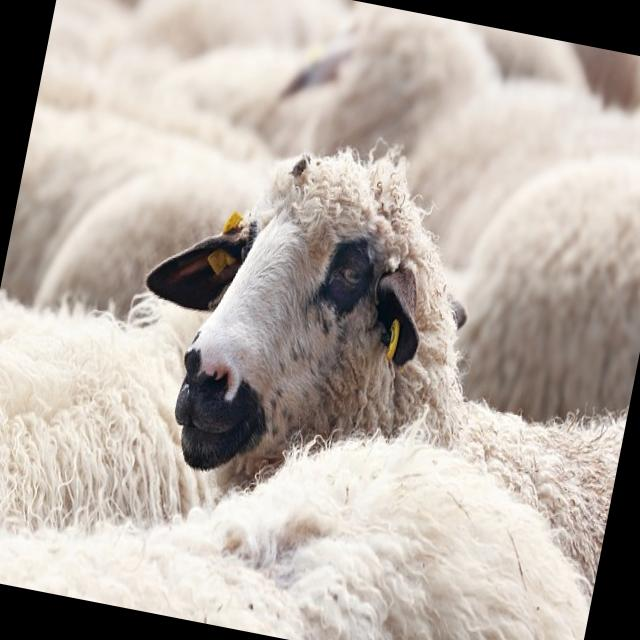animal: (107, 113, 640, 577)
